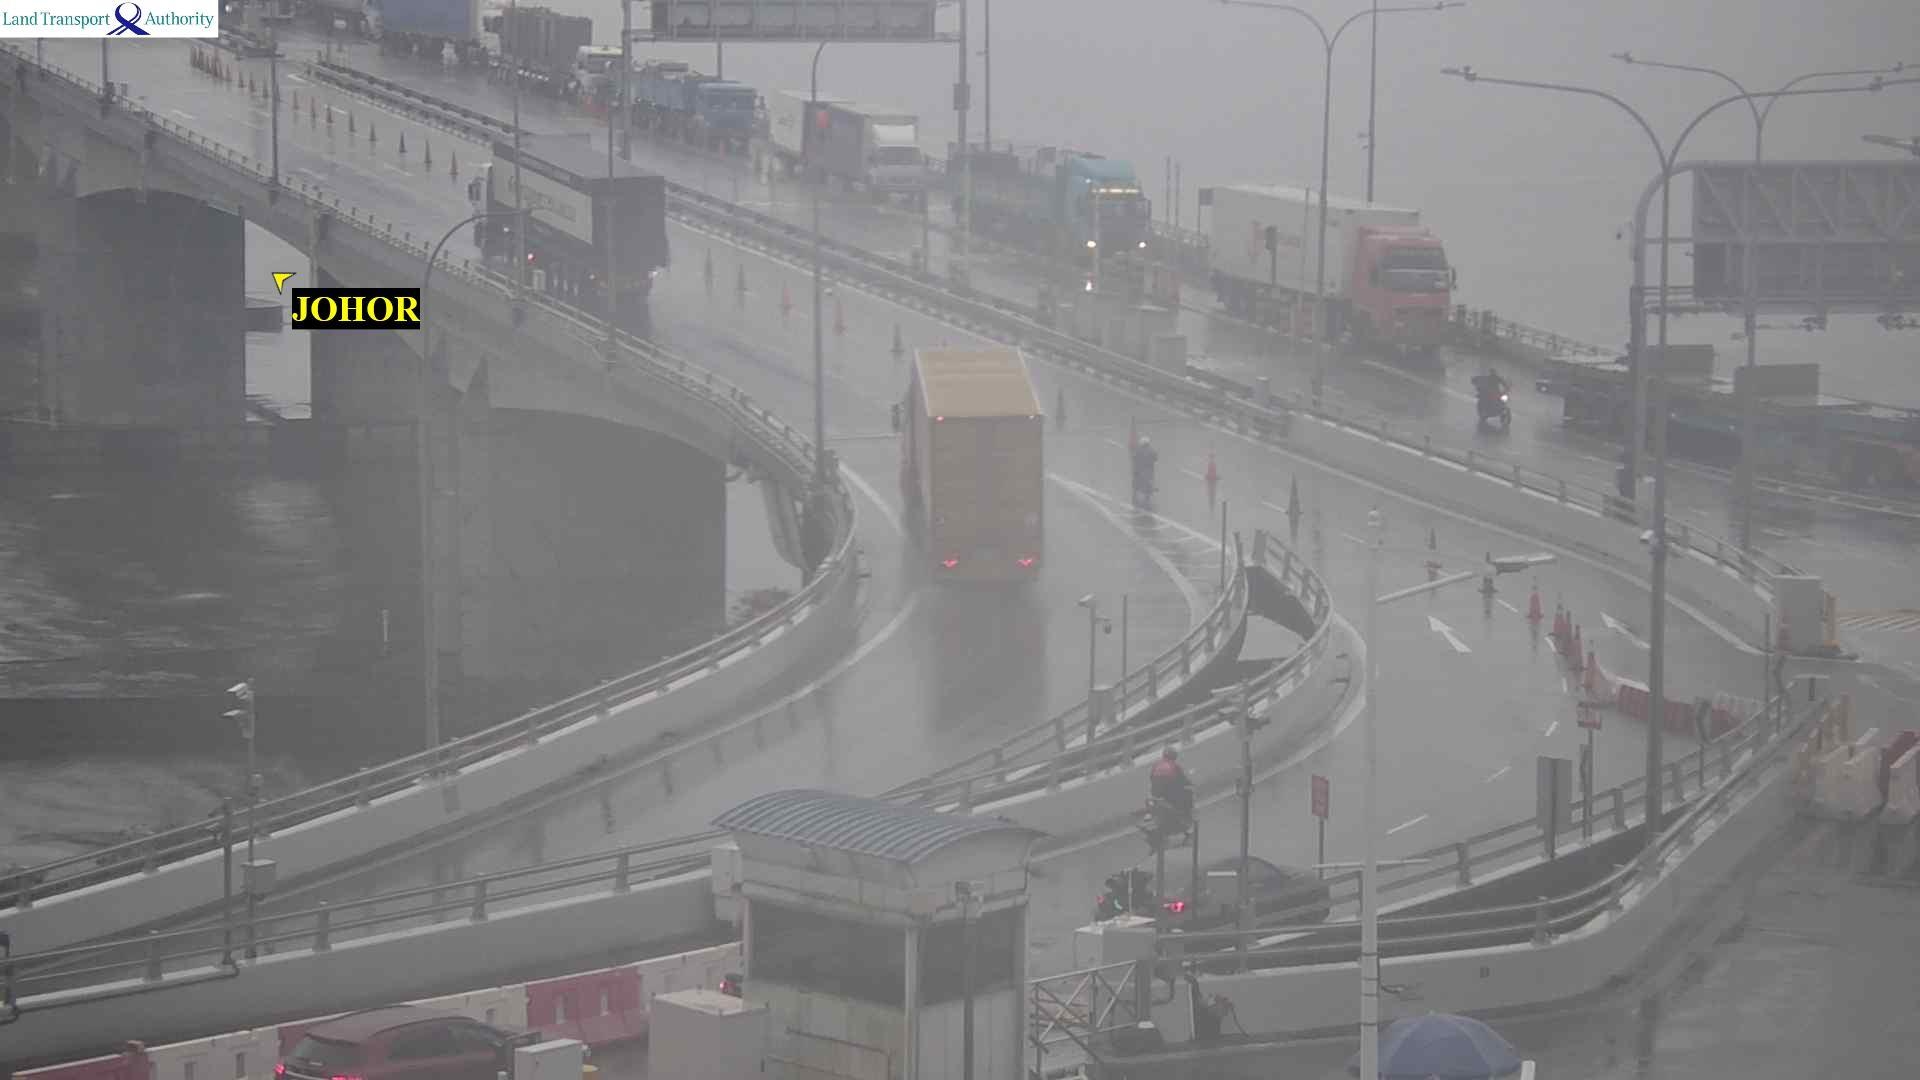vehicle-secondlink-johor: (898, 343, 1043, 585), (471, 135, 666, 306), (1095, 845, 1337, 942), (287, 1006, 513, 1080), (1145, 744, 1199, 835), (1138, 429, 1153, 498)
vehicle-secondlink-singapore: (1211, 187, 1452, 357), (564, 42, 778, 127), (736, 98, 949, 182), (956, 152, 1153, 228), (378, 0, 498, 78), (509, 13, 592, 87), (1468, 363, 1514, 419)
